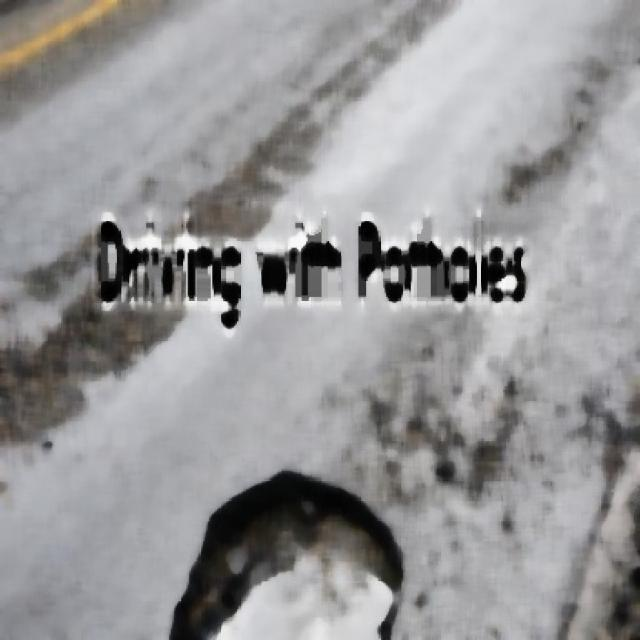pothole: (190, 462, 396, 639)
